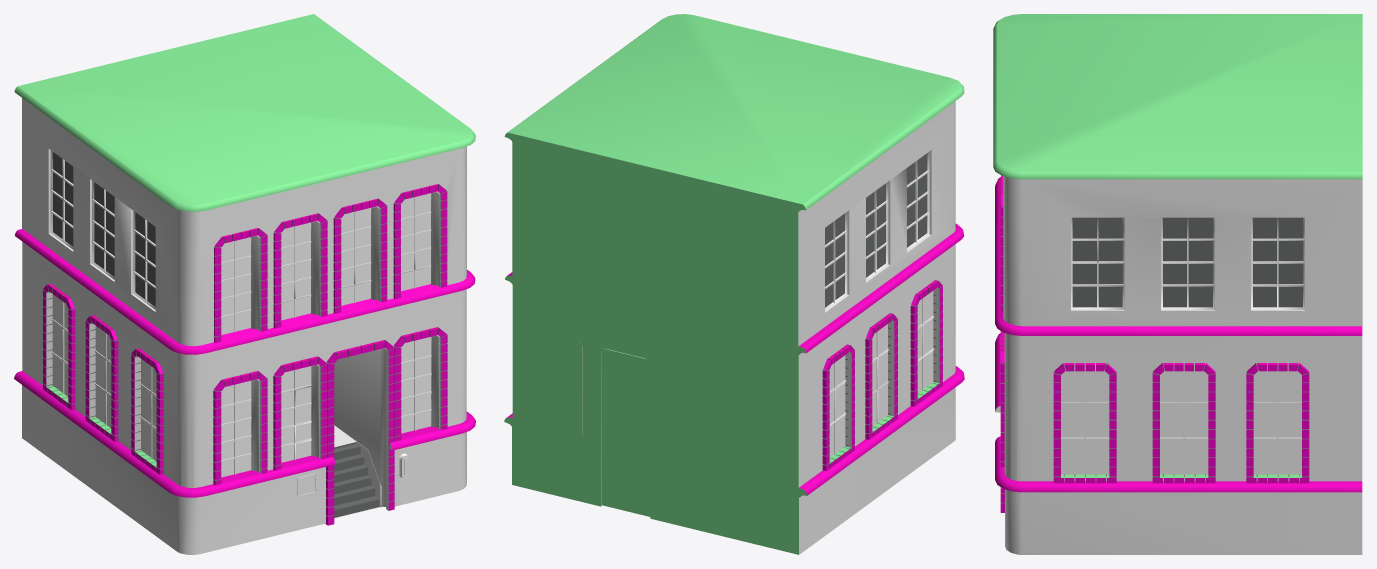
File: dom2_3.fbx
3 renders of one model, left to right at view 1: azimuth 30°, elevation 25°; view 2: azimuth 150°, elevation 25°; view 3: azimuth 270°, elevation 25°, orthographic. The views are drawn at different scales.
Parts seen in each view (by area): view 1: Cube_5901, Cube_5879, Cube_5898, Cube_59011, Cube_59017, Cube_59015, Cube_59016, Cube_5896, Cube_58861, Cube_5886, Cube_58813, Cube_58815 (+1 smaller); view 2: Cube_5901, Cube_5879, Cube, Cube_59017, Cube_59016, Cube_59015, Cube_58814, Cube_58813, Cube_58815; view 3: Cube_5901, Cube_5879, Cube_5881, Cube_58811, Cube_58812, Cube_59012, Cube_59014, Cube_59013, Cube_5886.
Part boxes in pixels (x1,y1,x2,y2): Cube_5901: (14,14,475,346); Cube_5879: (14,229,475,554); Cube_5898: (325,340,394,525); Cube_59011: (333,425,382,518); Cube_59017: (85,314,118,441); Cube_59015: (43,283,75,410); Cube_59016: (131,348,163,474); Cube_5896: (213,371,267,485); Cube_58861: (273,356,327,470); Cube_5886: (394,327,447,441); Cube_58813: (52,294,69,396); Cube_58815: (95,326,112,427); Cube_5901: (504,14,964,346); Cube_5879: (504,223,964,554); Cube: (601,348,650,516); Cube_59017: (865,313,897,439); Cube_59016: (910,280,942,406); Cube_59015: (822,344,854,470); Cube_58814: (917,291,933,392); Cube_58813: (829,355,845,457); Cube_58815: (871,324,888,426); Cube_5901: (993,14,1362,326); Cube_5879: (995,177,1362,554); Cube_5881: (1253,369,1301,474); Cube_58811: (1061,369,1109,474); Cube_58812: (1160,369,1208,474); Cube_59012: (1246,363,1309,483); Cube_59014: (1152,363,1215,483); Cube_59013: (1053,363,1116,483); Cube_5886: (1000,331,1004,466).
Size of the model in its own units: 3.24 by 3.6 by 3.13.
